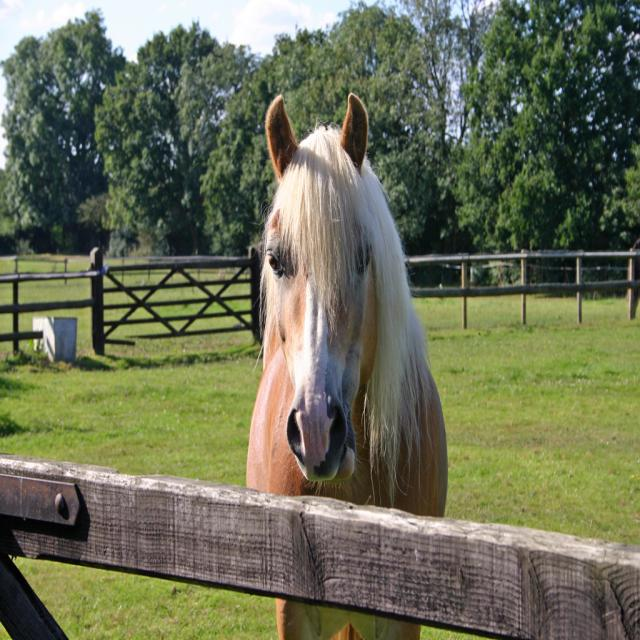Horse: (246, 92, 448, 640)
